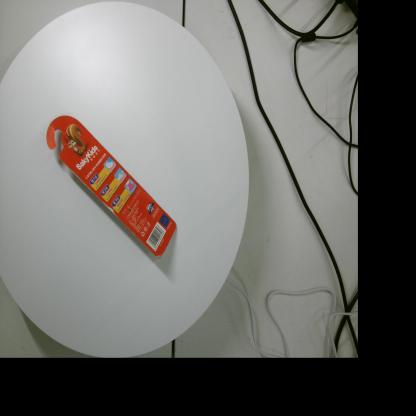Personal Hygiene: (46, 115, 177, 259)
